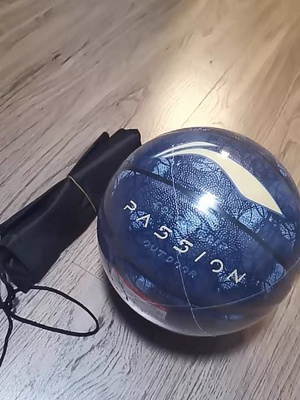ball: (97, 126, 300, 338)
